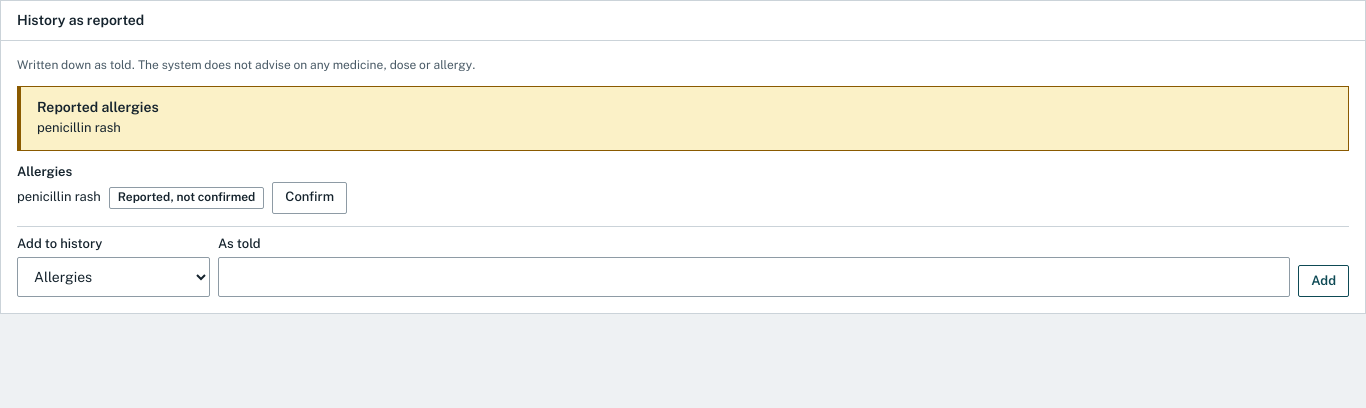
HistoryPanel › an empty entry is not sent
Expected: the text "Reported, not confirmed" is shown, x1=109 y1=187 x2=264 y2=209
What coordinates should you click on to do the following:
click the button "Add"
I would click on:
 (1324, 281)
Its box is x1=1298 y1=265 x2=1349 y2=297.
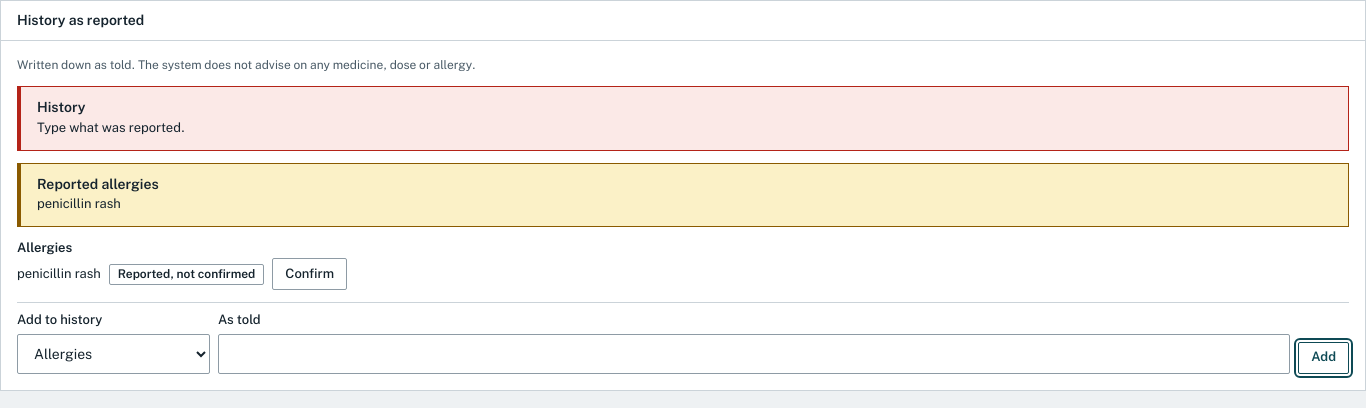
Expected: the message "History Type what was reported." is shown, x1=17 y1=86 x2=1349 y2=151
